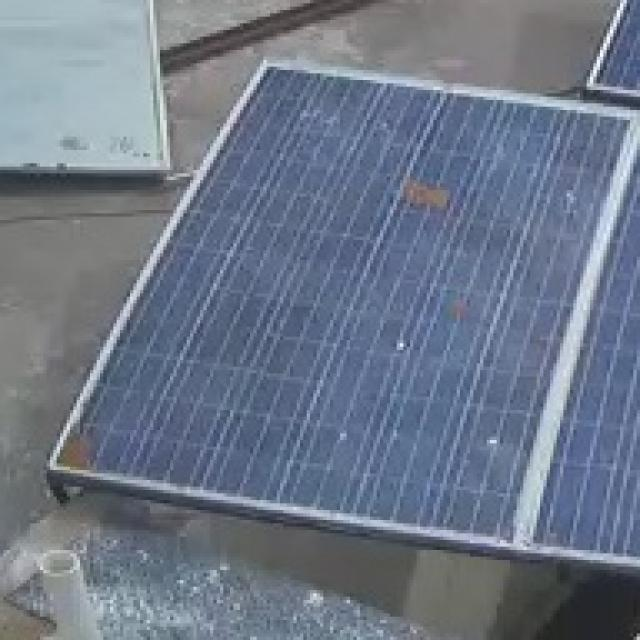Bird-drop: (553, 181, 581, 209), (472, 426, 503, 450), (326, 421, 351, 449), (385, 335, 411, 355)
Dusty: (388, 170, 457, 214), (58, 433, 100, 467)
